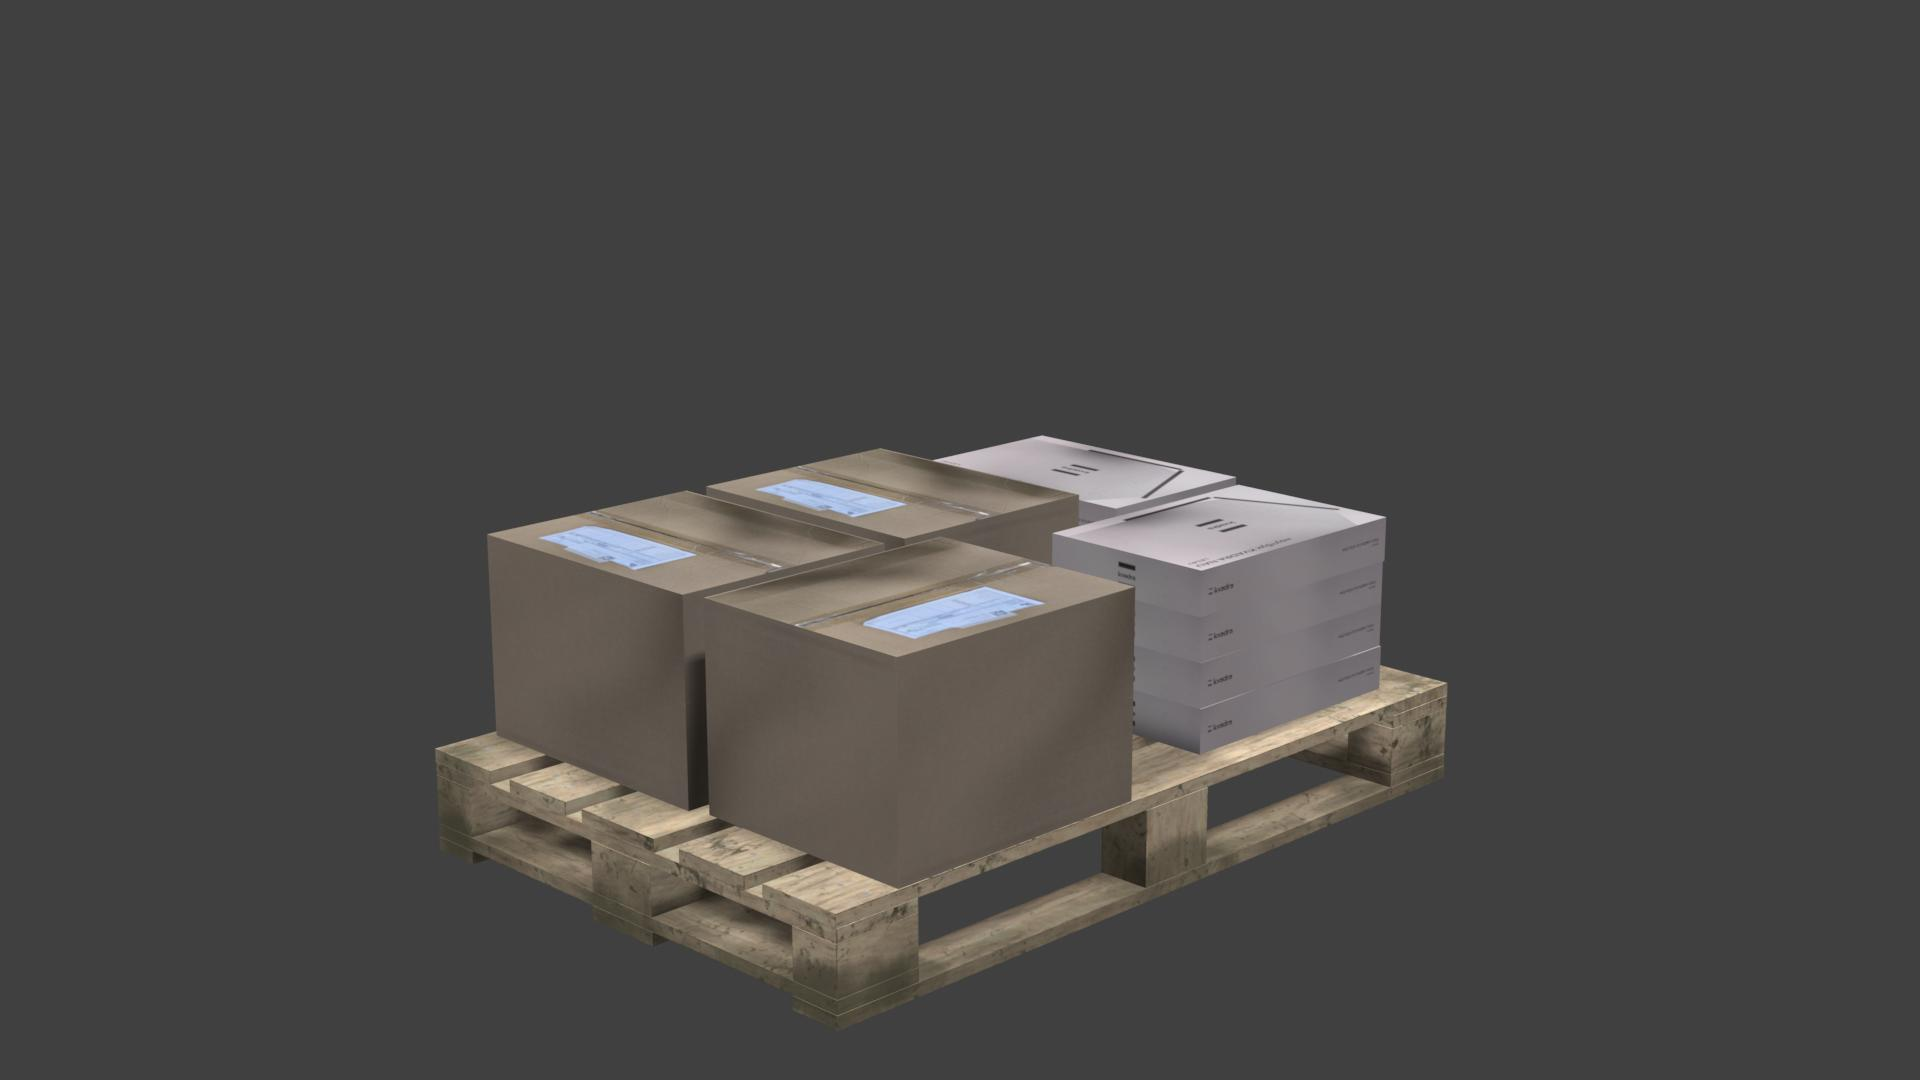group_box_left: (706, 589, 1135, 887), (486, 535, 707, 812), (904, 498, 1078, 566)
group_box_top: (705, 537, 1135, 658), (488, 490, 883, 595), (710, 447, 1079, 539)
laptop_left: (1054, 517, 1385, 615), (1133, 646, 1379, 755), (1134, 601, 1381, 708), (1135, 562, 1384, 663)
laptop_top: (1055, 484, 1385, 570), (936, 435, 1235, 510)
palet: (435, 665, 1449, 1034)
